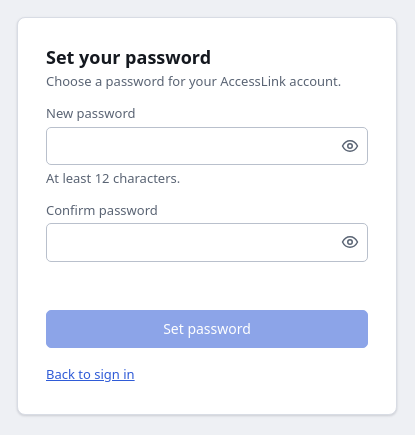
Test case: redeeming an invitation or reset link › refuses to submit until the two passwords agree
The image size is (415, 435).
Step 1. Type "a-long-enough-password" into the password field labelled "New password" → (207,146), box [46,127,368,165]
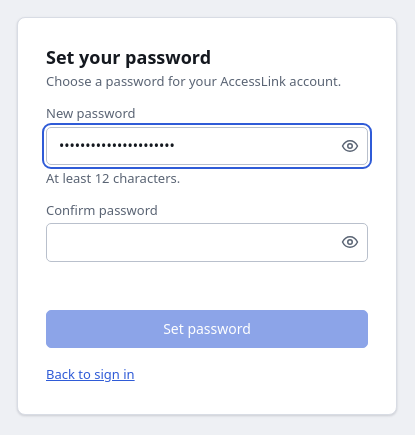
Step 2. Type "a-long-enough-passwerd" into the password field labelled "Confirm password" → (207,242), box [46,223,368,262]
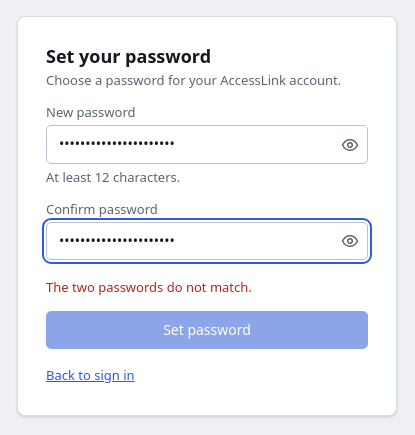
Expected: the button "Set password" is disabled, [46,311,368,350]
Now the text "The two passwords do not match." is shown, box [46,278,252,296]
